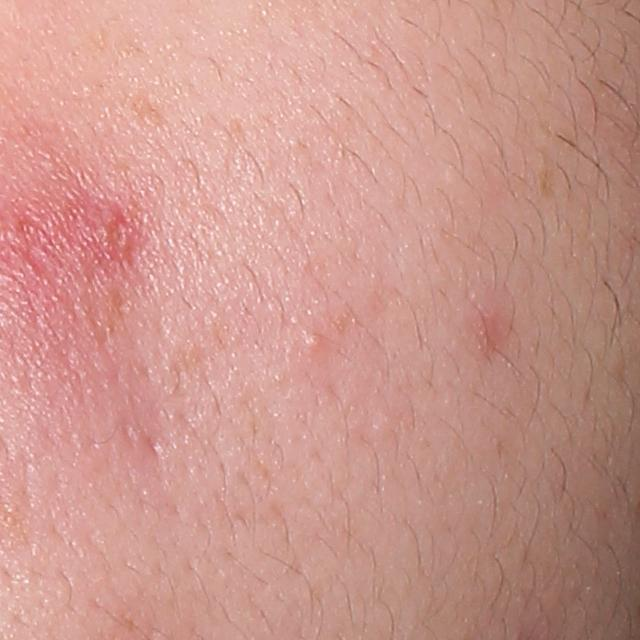comedo: (303, 328, 323, 349)
